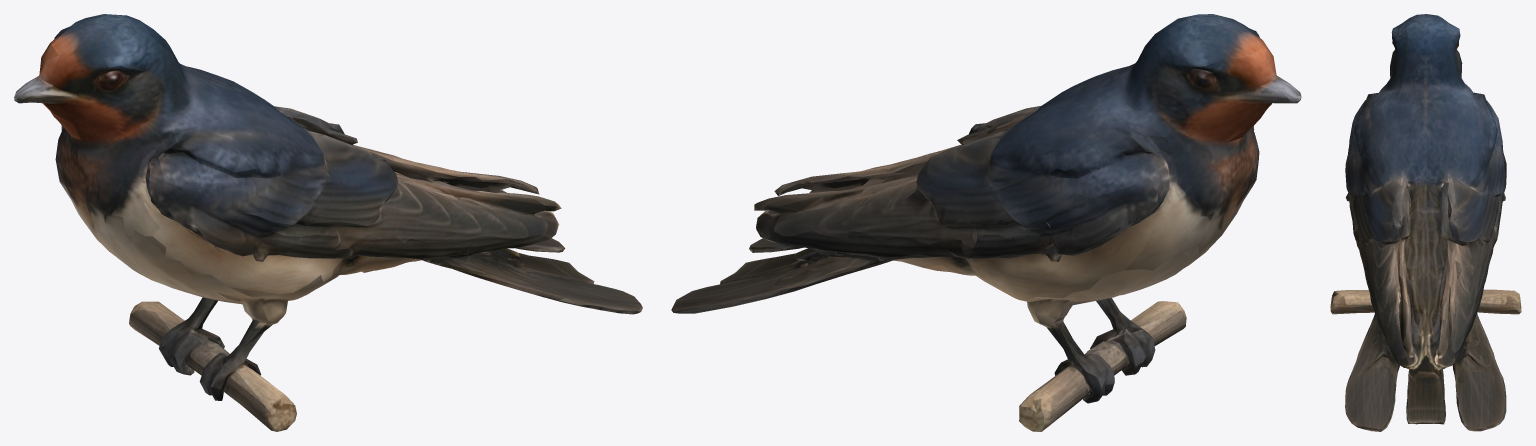
Rendered from model_glb.glb.
3 renders of one model, left to right at view 1: azimuth 30°, elevation 25°; view 2: azimuth 150°, elevation 25°; view 3: azimuth 270°, elevation 25°, orthographic. The views are drawn at different scales.
Parts seen in each view (by area): view 1: geometry_0; view 2: geometry_0; view 3: geometry_0.
Part boxes in pixels (bbox=[...]): geometry_0: bbox=[14, 14, 642, 431]; geometry_0: bbox=[671, 14, 1301, 431]; geometry_0: bbox=[1330, 14, 1521, 431].
Bounding box in the file's own units: 0.19 × 0.1206 × 0.0802.
1 material, 1 textured.
